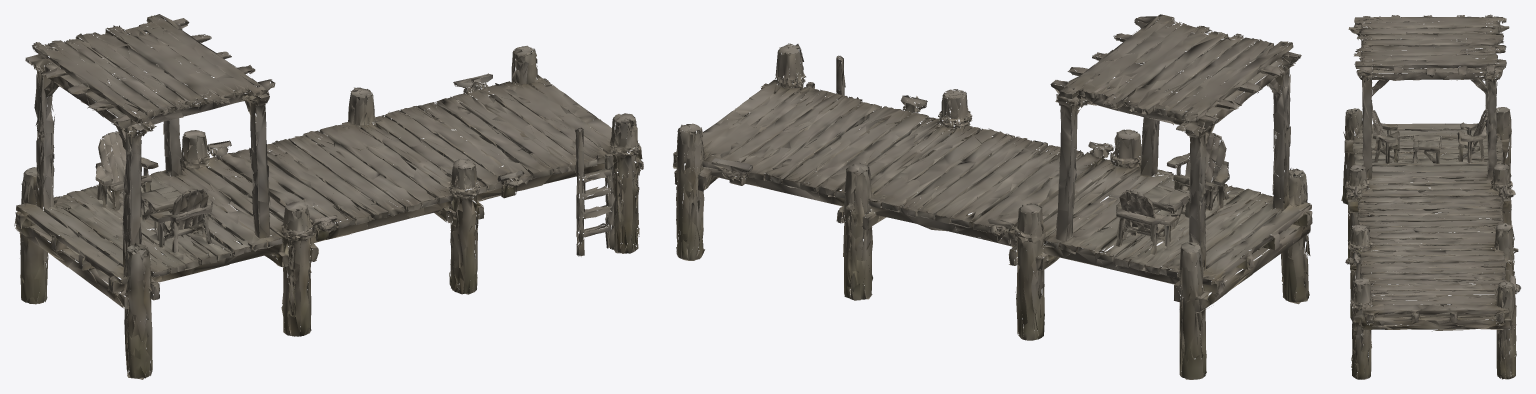
File: dock.glb
3 renders of one model, left to right at view 1: azimuth 30°, elevation 25°; view 2: azimuth 150°, elevation 25°; view 3: azimuth 270°, elevation 25°, orthographic. The views are drawn at different scales.
Visible parts, largest first — view 1: LO.001; view 2: LO.001; view 3: LO.001.
Part boxes in pixels (x1=…): LO.001: x1=14, y1=14, x2=643, y2=379; LO.001: x1=673, y1=14, x2=1312, y2=379; LO.001: x1=1341, y1=14, x2=1520, y2=379.
Size of the model in its own units: 1.92 by 0.8714 by 0.7628.
Materials: 1 (1 with a texture image).
